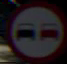No overtake: (7, 6, 62, 56)
